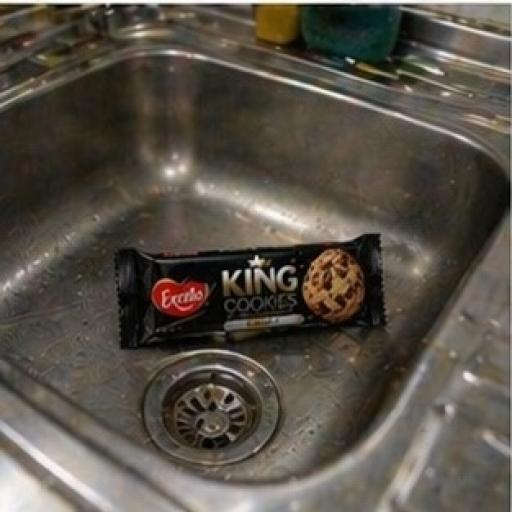king-cooking: (76, 190, 446, 396)
